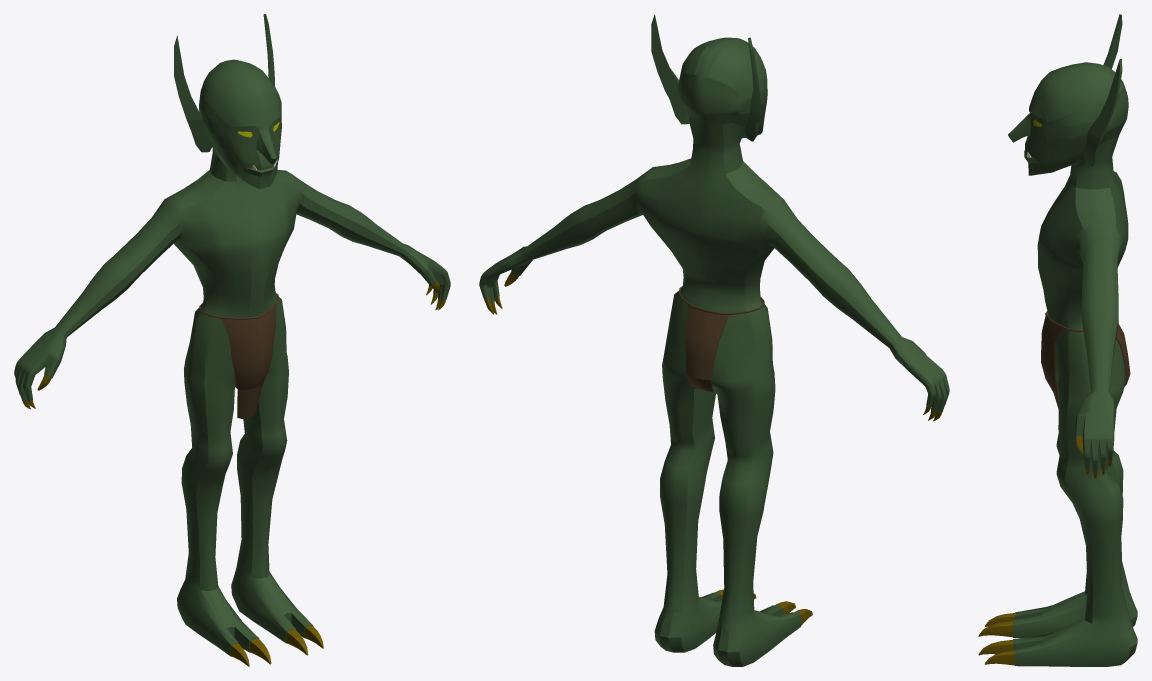
The model's file is StarterGoblin.fbx.
3 views of the same model, side by side, from view 1: azimuth 30°, elevation 25°; view 2: azimuth 150°, elevation 25°; view 3: azimuth 270°, elevation 25° (orthographic). The views are drawn at different scales.
Visible parts, largest first — view 1: Goblin; view 2: Goblin; view 3: Goblin.
Boxes of the visible parts, x1,y1,x2,y2 form: Goblin: [14, 14, 450, 666]; Goblin: [479, 14, 949, 666]; Goblin: [978, 14, 1137, 666].
Bounding box in the file's own units: 626 × 818 × 194.
